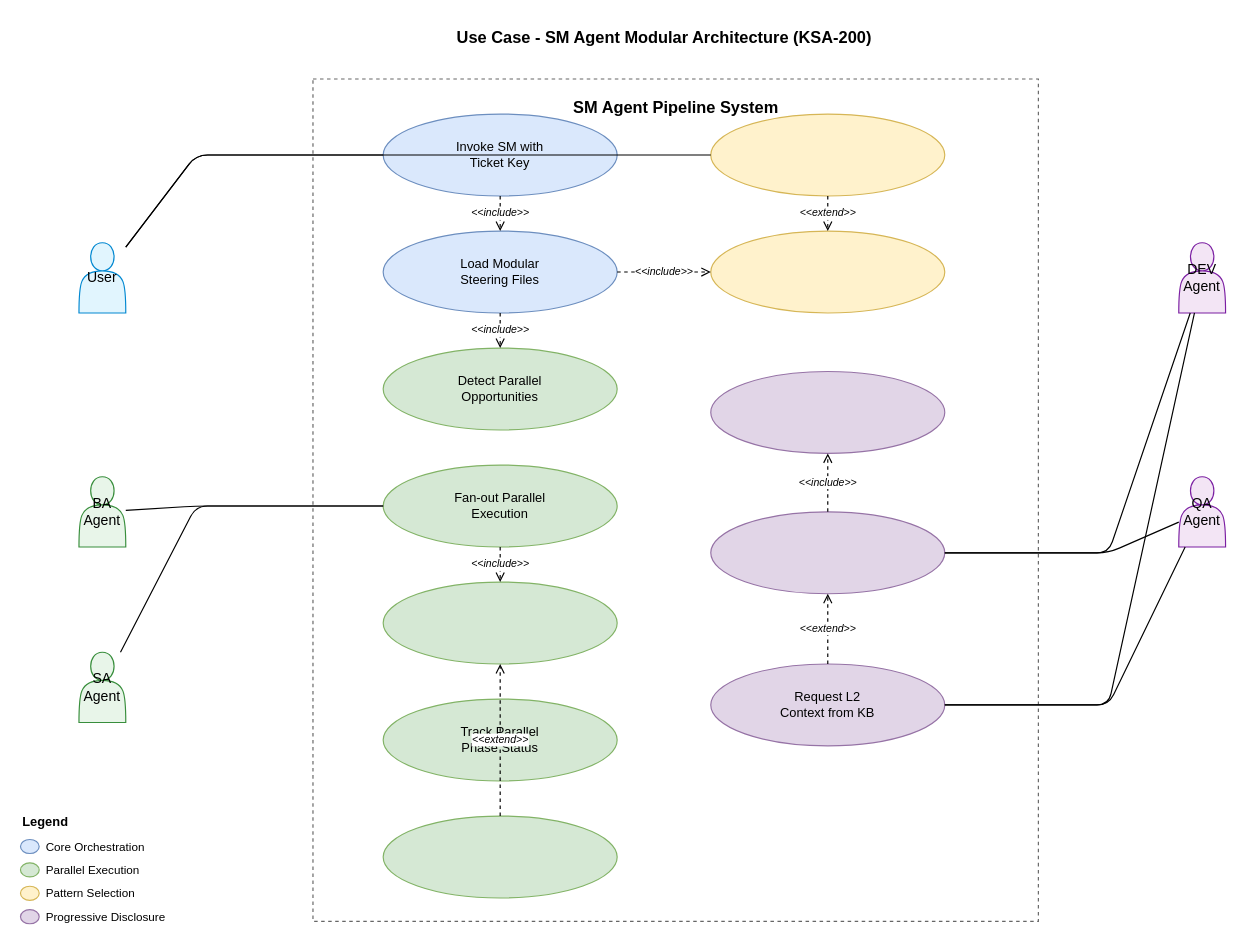
Image size: 1246x950. Some labels were removed from this diagram. The shapes that lost their labels are listed below. From the top down, each one's centre as x and y in pixels, then its label:
[827,154]: Override Pattern Selection
[827,271]: Select Architecture Pattern
[827,411]: Build Progressive Disclosure Context
[827,552]: Invoke Sub-agent with L0+L1 Context
[499,622]: Fan-in Collect Results
[499,856]: Rollback Failed Branch
